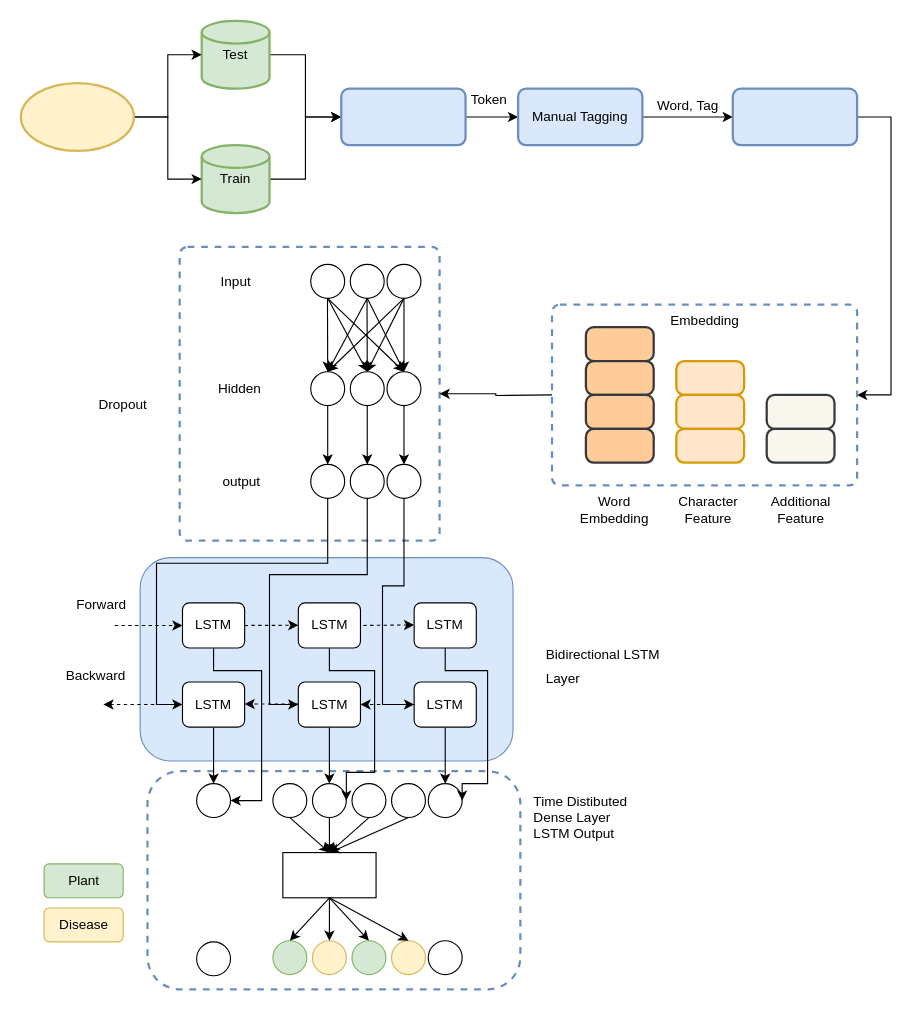
Some shapes in this 920 by 1009 pixel diagram are drawn without their labels. The shapes that lost their labels are listed below. From the top down, each one's box as (x1, y1, x2, y2) in pixels, then its label:
(19, 81, 134, 151): Mulai
(340, 87, 466, 146): Tokenization
(731, 87, 858, 146): Preprocessing
(282, 851, 376, 898): Attention Vector Model
